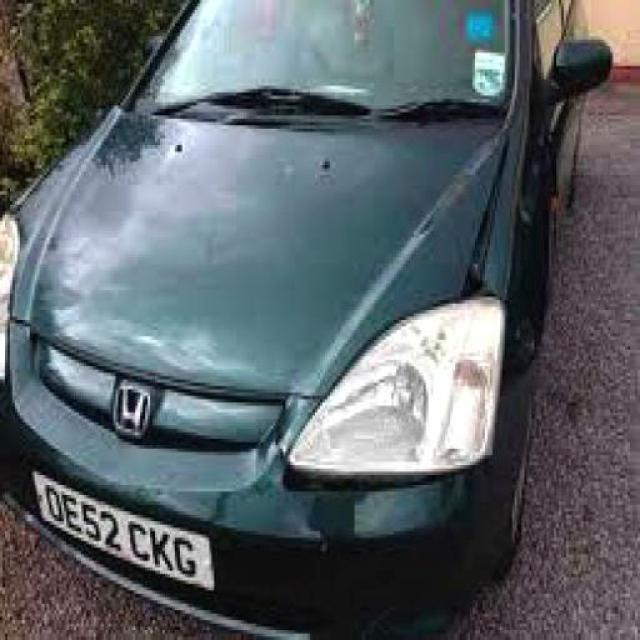car damage: (252, 400, 466, 515), (445, 136, 520, 306)
